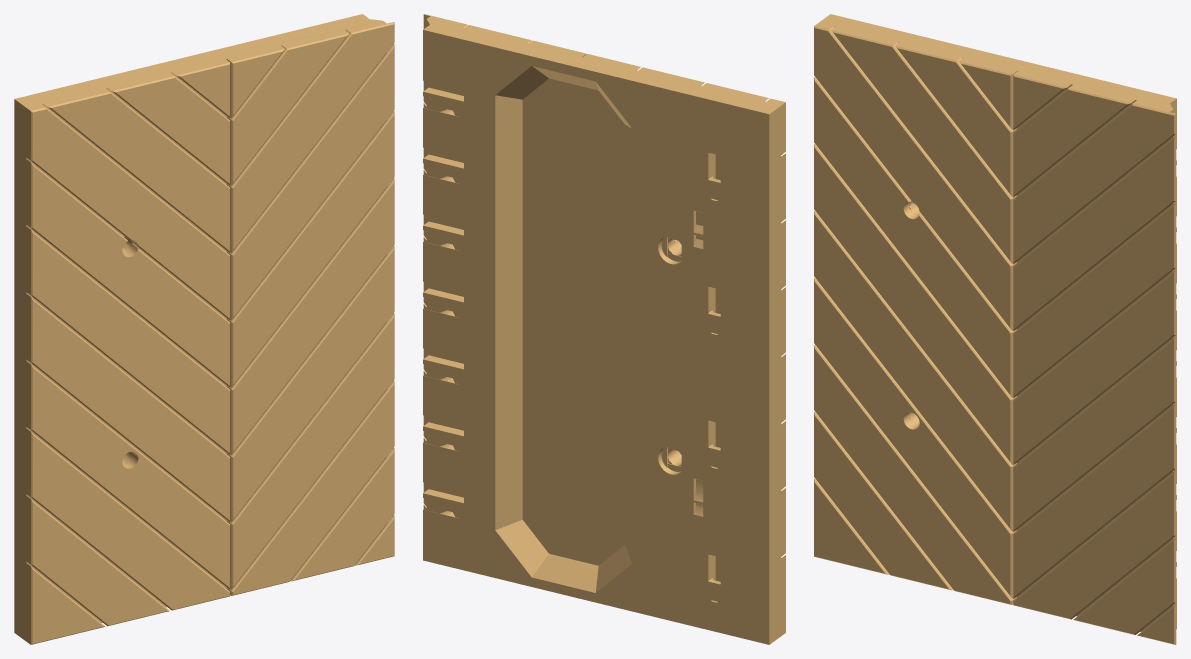
File: Door_Chevron_1W-2H_RH.lib.glb
The picture shows the model from 3 angles, left to right: view 1: azimuth 30°, elevation 25°; view 2: azimuth 150°, elevation 25°; view 3: azimuth 330°, elevation 25°; orthographic projection.
Parts seen in each view (by area): view 1: Door_Chevron_1W-2H_RH; view 2: Door_Chevron_1W-2H_RH; view 3: Door_Chevron_1W-2H_RH.
Boxes of the visible parts, x1,y1,x2,y2 form: Door_Chevron_1W-2H_RH: [14, 14, 394, 644]; Door_Chevron_1W-2H_RH: [423, 14, 785, 644]; Door_Chevron_1W-2H_RH: [814, 14, 1176, 644].
Bounding box in the file's own units: 79.15 × 111 × 6.5.
